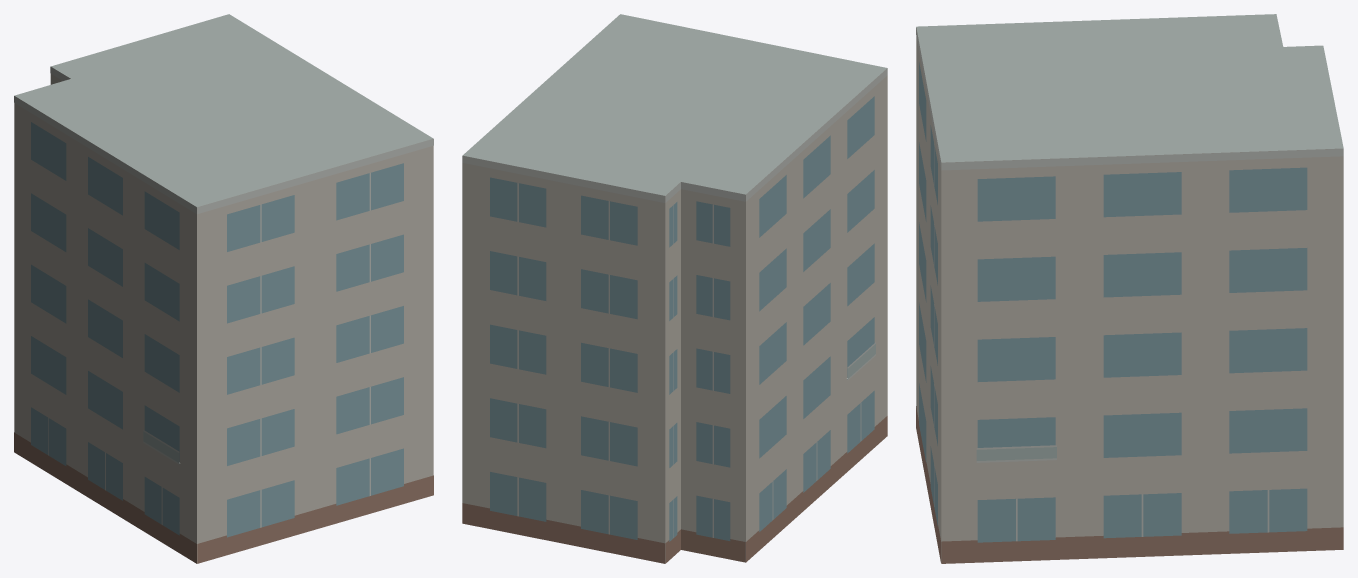
Rendered from survey-upis-32745890.glb.
The picture shows the model from 3 angles, left to right: view 1: azimuth 30°, elevation 25°; view 2: azimuth 150°, elevation 25°; view 3: azimuth 270°, elevation 25°; orthographic projection. The views are drawn at different scales.
Parts seen in each view (by area): view 1: survey-upis-32745890.tmp; view 2: survey-upis-32745890.tmp; view 3: survey-upis-32745890.tmp.
Part boxes in pixels (<box>): survey-upis-32745890.tmp: <box>14,14,433,563</box>; survey-upis-32745890.tmp: <box>462,14,887,563</box>; survey-upis-32745890.tmp: <box>916,14,1343,563</box>.
Bounding box in the file's own units: 9.86 × 12.4 × 11.99.
